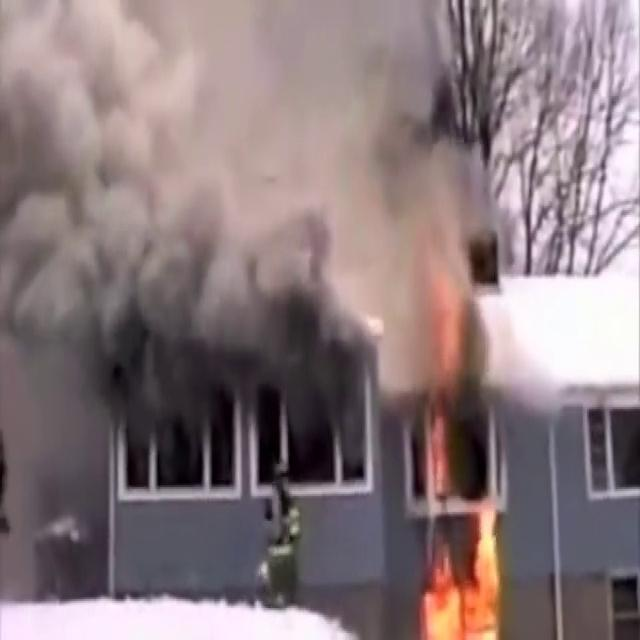Fire: (416, 485, 512, 640)
Smoke: (1, 1, 491, 518)
